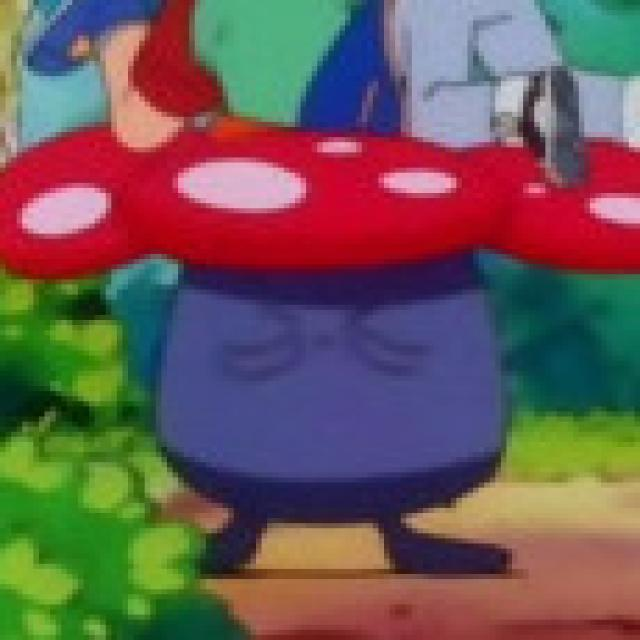Vileplume: (84, 119, 538, 578)
